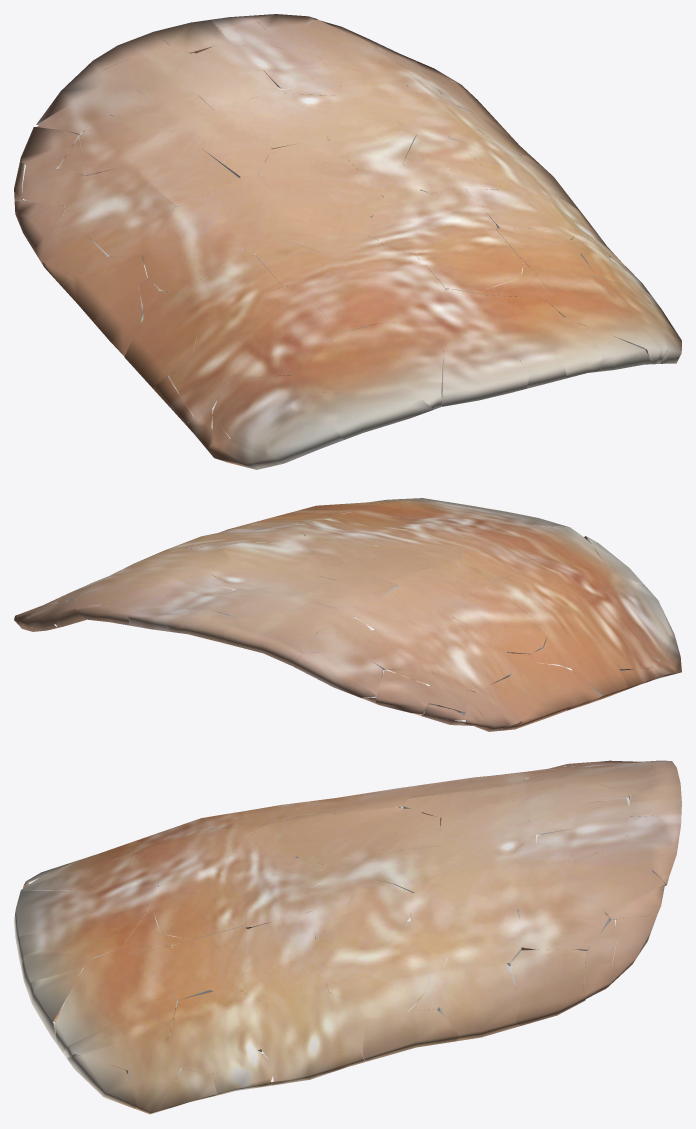
The model's file is Nail dirt.fbx.
The picture shows the model from 3 angles, top to bottom: view 1: azimuth 30°, elevation 25°; view 2: azimuth 150°, elevation 25°; view 3: azimuth 270°, elevation 25°; orthographic projection. The views are drawn at different scales.
Parts seen in each view (by area): view 1: Nail dirt particles _cell.004, Nail dirt particles _cell.077, Nail dirt particles _cell.088, Nail dirt particles _cell.018, Nail dirt particles _cell.071, Nail dirt particles _cell.003, Nail dirt particles _cell.020, Nail dirt particles _cell.043, Nail dirt particles _cell.036, Nail dirt particles _cell.046, Nail dirt particles _cell.076, Nail dirt particles _cell.035 (+63 smaller); view 2: Nail dirt particles _cell.018, Nail dirt particles _cell.071, Nail dirt particles _cell.077, Nail dirt particles _cell.076, Nail dirt particles _cell.020, Nail dirt particles _cell.004, Nail dirt particles _cell.003, Nail dirt particles _cell.046, Nail dirt particles _cell.013, Nail dirt particles _cell.058, Nail dirt particles _cell.025, Nail dirt particles _cell.084 (+55 smaller); view 3: Nail dirt particles _cell.067, Nail dirt particles _cell.074, Nail dirt particles _cell.066, Nail dirt particles _cell.088, Nail dirt particles _cell.068, Nail dirt particles _cell.077, Nail dirt particles _cell.007, Nail dirt particles _cell.043, Nail dirt particles _cell.047, Nail dirt particles _cell.033, Nail dirt particles _cell.046, Nail dirt particles _cell.049 (+53 smaller).
Part boxes in pixels (x1,y1,x2,y2): Nail dirt particles _cell.004: [300, 321, 443, 409]; Nail dirt particles _cell.077: [298, 245, 445, 332]; Nail dirt particles _cell.088: [430, 289, 564, 359]; Nail dirt particles _cell.018: [64, 166, 176, 256]; Nail dirt particles _cell.071: [142, 205, 248, 294]; Nail dirt particles _cell.003: [193, 305, 292, 381]; Nail dirt particles _cell.020: [127, 128, 238, 206]; Nail dirt particles _cell.043: [415, 229, 523, 293]; Nail dirt particles _cell.036: [243, 286, 338, 376]; Nail dirt particles _cell.046: [234, 94, 355, 149]; Nail dirt particles _cell.076: [124, 291, 201, 387]; Nail dirt particles _cell.035: [212, 375, 302, 445]; Nail dirt particles _cell.018: [416, 618, 510, 692]; Nail dirt particles _cell.071: [450, 586, 548, 654]; Nail dirt particles _cell.077: [408, 520, 547, 565]; Nail dirt particles _cell.076: [540, 624, 627, 701]; Nail dirt particles _cell.020: [354, 586, 454, 642]; Nail dirt particles _cell.004: [486, 524, 615, 587]; Nail dirt particles _cell.003: [554, 589, 622, 642]; Nail dirt particles _cell.046: [211, 563, 334, 595]; Nail dirt particles _cell.013: [488, 572, 567, 632]; Nail dirt particles _cell.058: [507, 653, 572, 722]; Nail dirt particles _cell.025: [387, 568, 474, 614]; Nail dirt particles _cell.084: [301, 579, 397, 616]; Nail dirt particles _cell.067: [55, 947, 173, 1052]; Nail dirt particles _cell.074: [169, 987, 262, 1074]; Nail dirt particles _cell.066: [255, 991, 365, 1059]; Nail dirt particles _cell.088: [43, 880, 158, 958]; Nail dirt particles _cell.068: [410, 859, 523, 918]; Nail dirt particles _cell.077: [121, 822, 245, 886]; Nail dirt particles _cell.007: [355, 922, 447, 1019]; Nail dirt particles _cell.043: [148, 872, 244, 939]; Nail dirt particles _cell.047: [440, 963, 519, 1041]; Nail dirt particles _cell.033: [410, 910, 521, 967]; Nail dirt particles _cell.046: [439, 805, 530, 863]; Nail dirt particles _cell.049: [519, 900, 609, 952].
Size of the model in its own units: 79.57 by 30.64 by 92.53.
